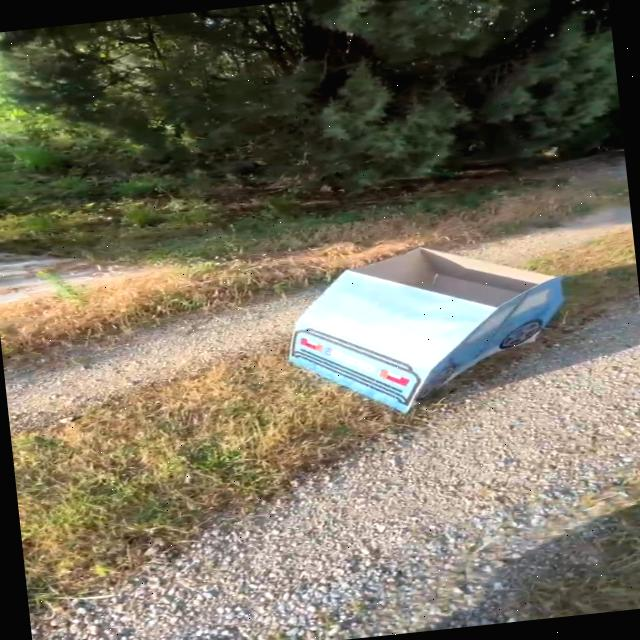blue_car: (224, 217, 594, 443)
